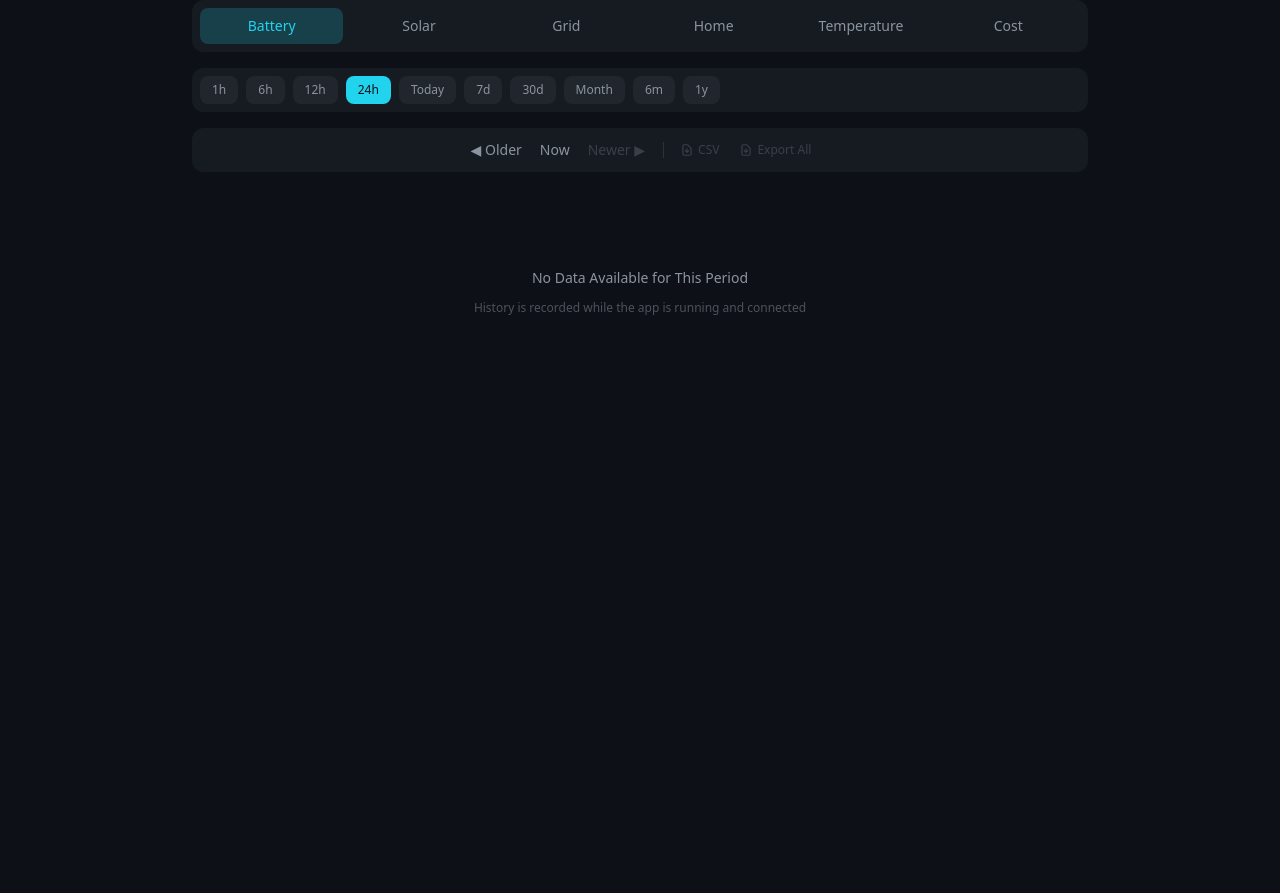
Test case: <HistoryPage/> — period totals, cost breakdown, window labels › period totals — per-tab additive values › shows Imported / Exported totals on the Grid tab
The image size is (1280, 893).
Click the button "Grid": coordinates (566, 26) top-left (495, 8), bottom-right (638, 44)
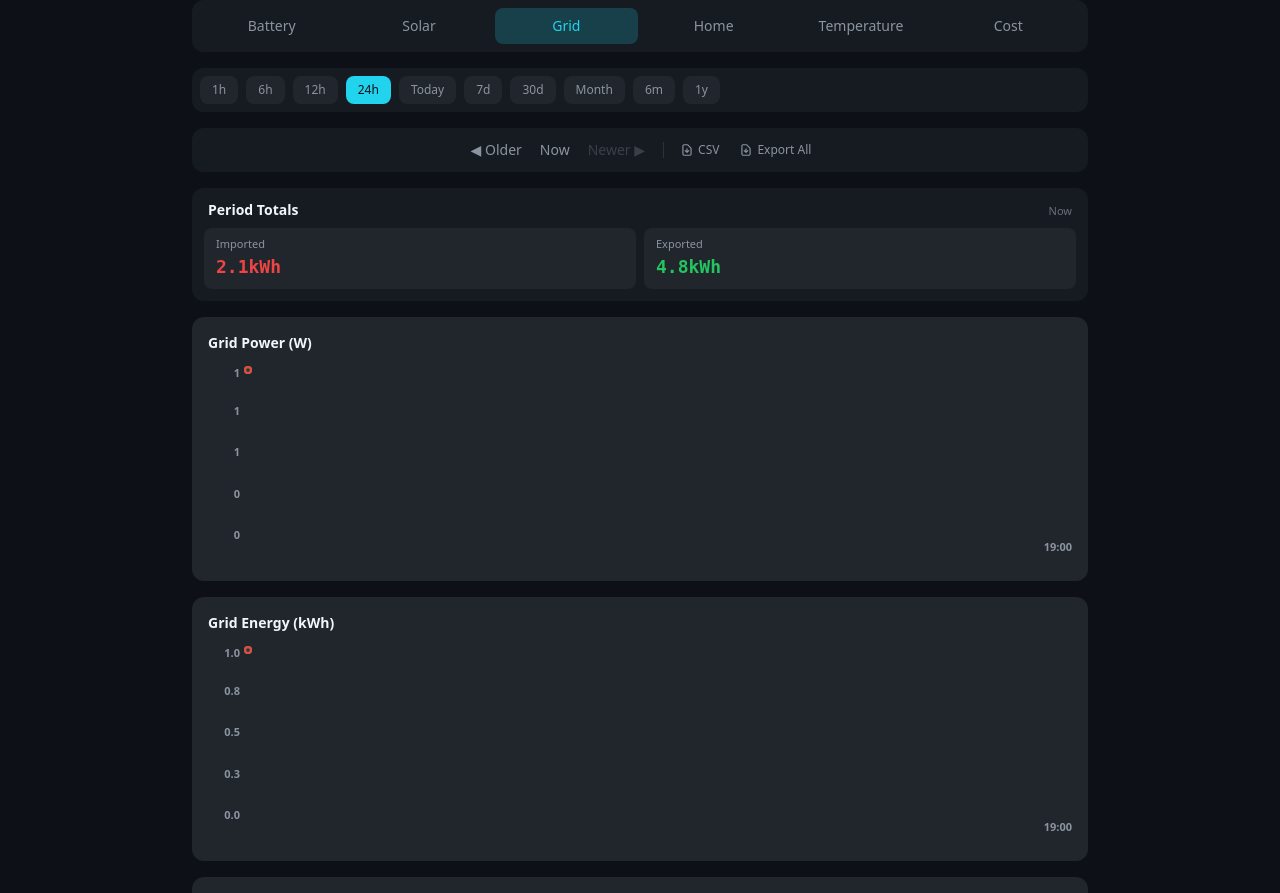
Check: the text "Imported" is shown, box top-left (216, 236), bottom-right (265, 251)
Check: the text "Exported" is shown, box top-left (656, 236), bottom-right (703, 251)
Check: the text "2.1kWh" is shown, box top-left (216, 256), bottom-right (281, 276)
